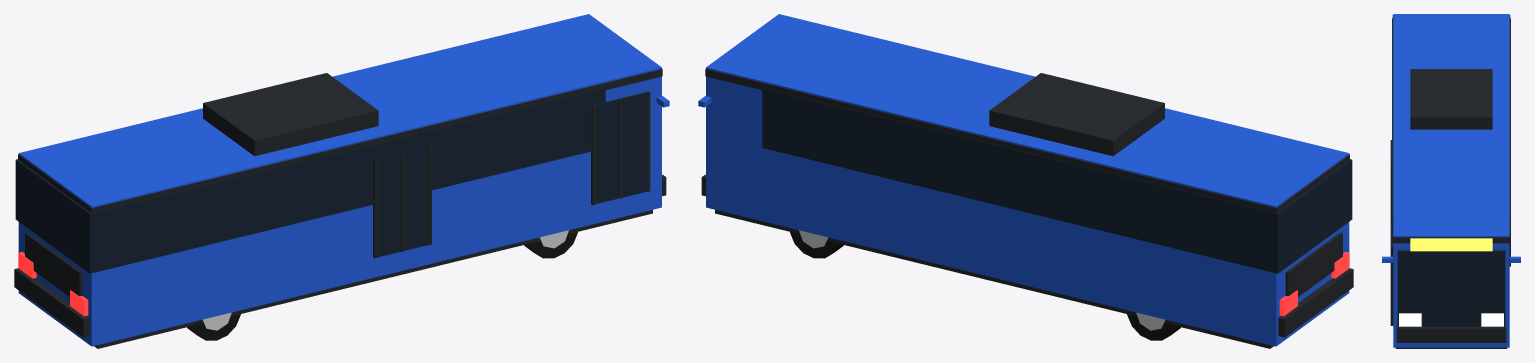
The model's file is citybus.glb.
3 views of the same model, side by side, from view 1: azimuth 30°, elevation 25°; view 2: azimuth 150°, elevation 25°; view 3: azimuth 270°, elevation 25° (orthographic). The views are drawn at different scales.
Visible parts, largest first — view 1: Body, Windows, Door (×2), RoofAC, RoofTrim, City_Bus, Chassis, Wheel (×2), EngineGrille, Bumper; view 2: Body, Windows, RoofAC, RoofTrim, Chassis, EngineGrille, Wheel (×2), Bumper; view 3: Body, Windshield, RoofAC, Bumper, RoofTrim, DestinationSign, City_Bus, Headlight (×2), Windows, Chassis.
Boxes of the visible parts, x1,y1,x2,y2 form: Body: (18, 14, 661, 346); Windows: (15, 88, 605, 273); Door (×2): (375, 92, 647, 257); RoofAC: (203, 73, 378, 156); RoofTrim: (18, 69, 662, 213); City_Bus: (373, 91, 669, 258); Chassis: (94, 210, 652, 348); Wheel (×2): (187, 230, 577, 340); EngineGrille: (25, 232, 82, 296); Bumper: (14, 268, 89, 337); Body: (706, 14, 1349, 346); Windows: (762, 88, 1352, 273); RoofAC: (989, 73, 1164, 156); RoofTrim: (705, 69, 1349, 213); Chassis: (715, 210, 1273, 348); EngineGrille: (1285, 232, 1342, 296); Wheel (×2): (790, 230, 1180, 340); Bumper: (1278, 268, 1353, 337); Body: (1393, 14, 1509, 347); Windshield: (1397, 250, 1505, 326); RoofAC: (1410, 69, 1492, 129); Bumper: (1396, 326, 1506, 342); RoofTrim: (1392, 15, 1510, 243); DestinationSign: (1410, 238, 1492, 251); City_Bus: (1382, 140, 1520, 325); Headlight (×2): (1399, 313, 1503, 326); Windows: (1392, 18, 1510, 266); Chassis: (1395, 347, 1507, 348).
Bounding box in the file's own units: 11.76 × 3.5 × 3.04.
